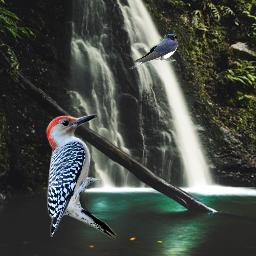Swallow: (128, 34, 181, 71)
Woodpecker: (40, 109, 123, 248)
